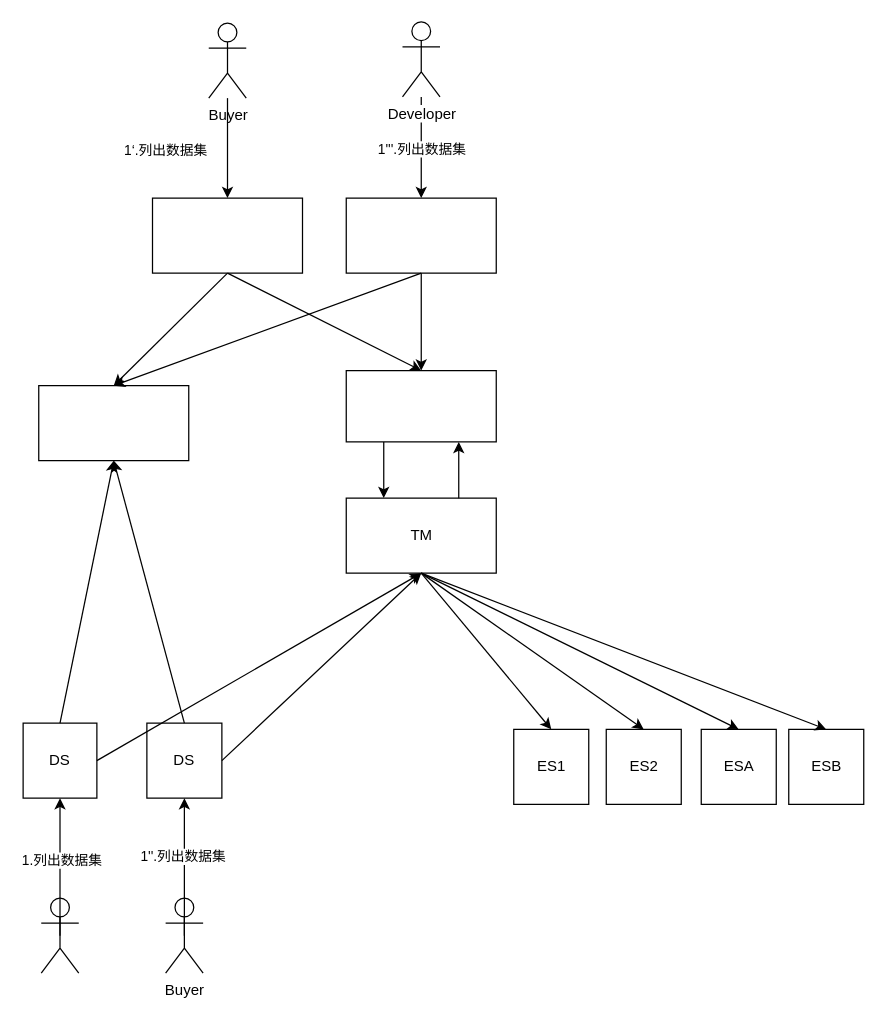
Some shapes in this 885 by 1021 pixel diagram are drawn without their labels. Each missing label, with the centre of its shape:
Datamarket: the point at 226,235
datamarket任务管理服务: the point at 420,405
datamarket数据目录和kernel的管理和权限服务: the point at 113,422
Jupyter开发环境: the point at 420,235
Seller: the point at 59,935
